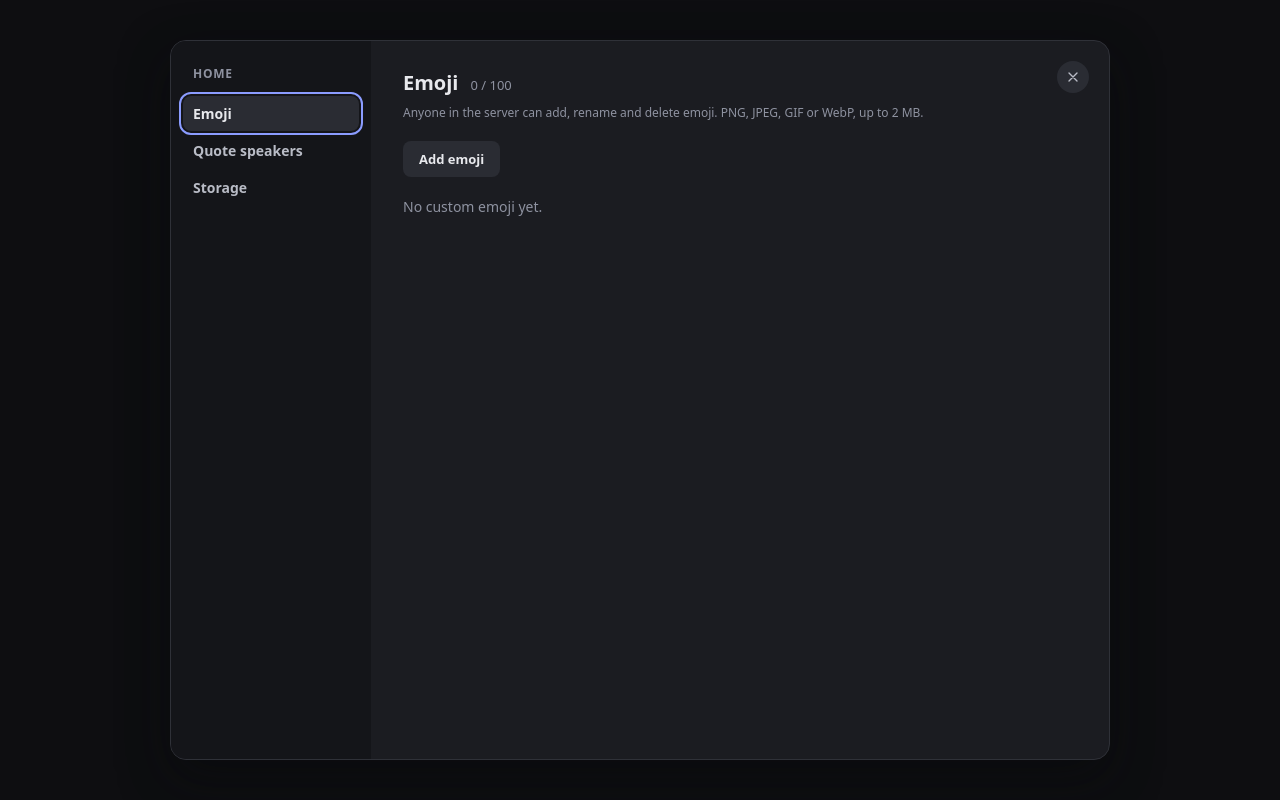
Scenario: ServerSettings sections › ServerSettings has a Storage section
Click the button "Storage" at (271, 188), box [183,170,359,205]
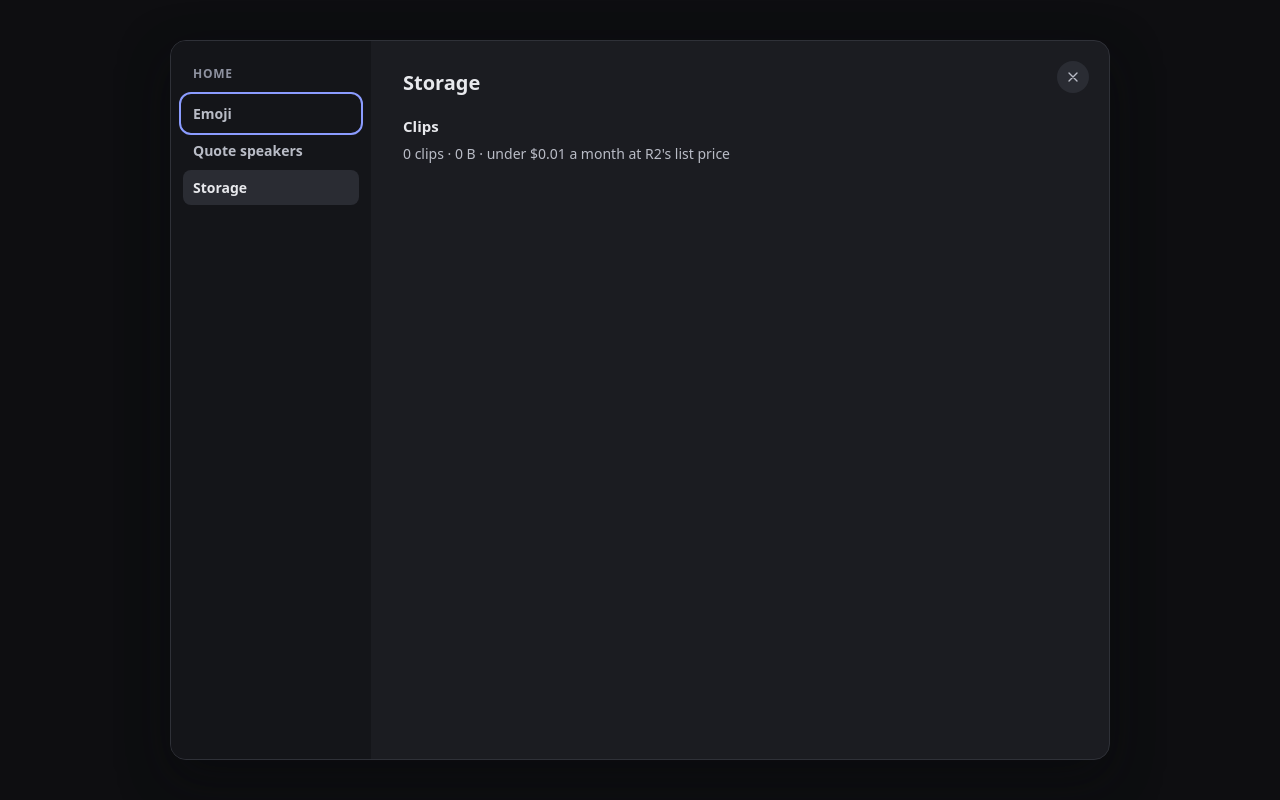
Check: the heading "Storage" is shown, box [403,69,480,96]
